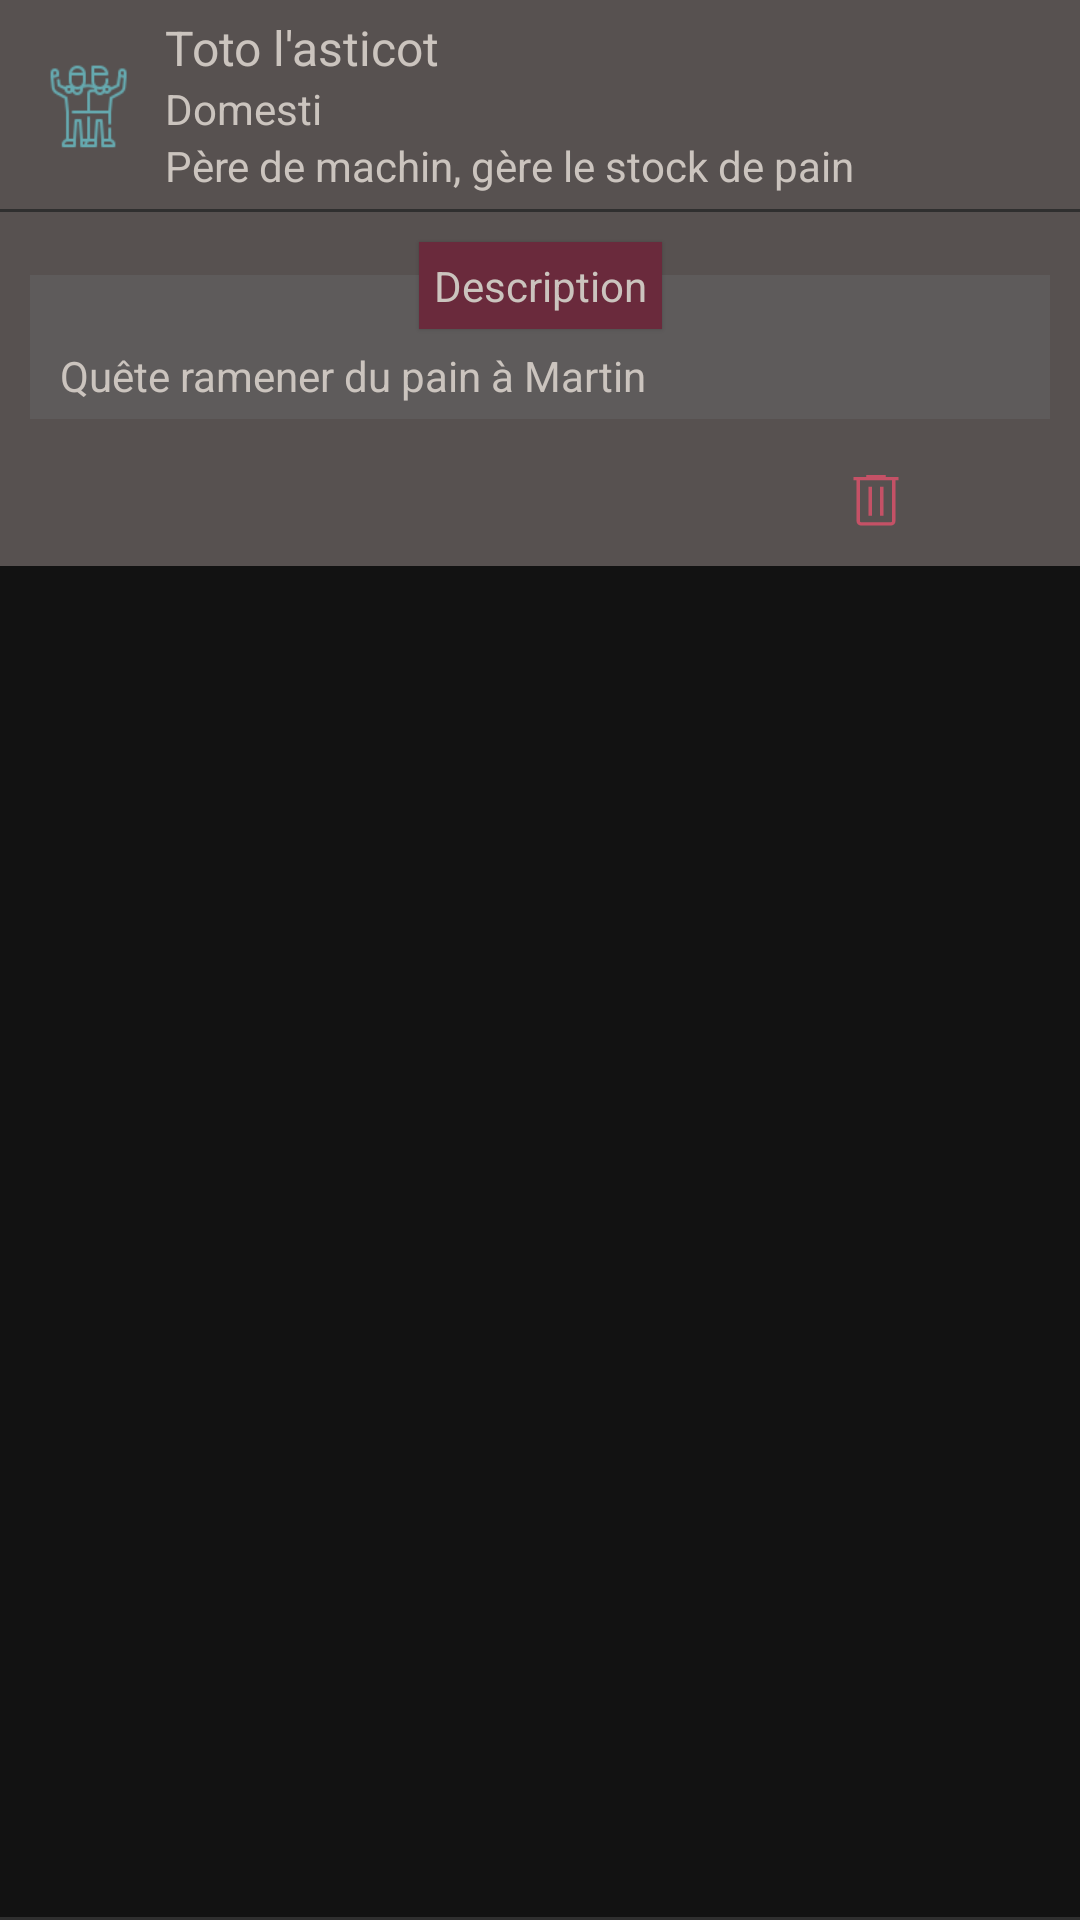

Named icons in this screenshot (1080px×1920px) and their bounding boxes, (left=x1, top=y1, right=x2, bottom=y2):
delete: (left=853, top=475, right=899, bottom=526)
friendship: (left=50, top=65, right=127, bottom=148)
